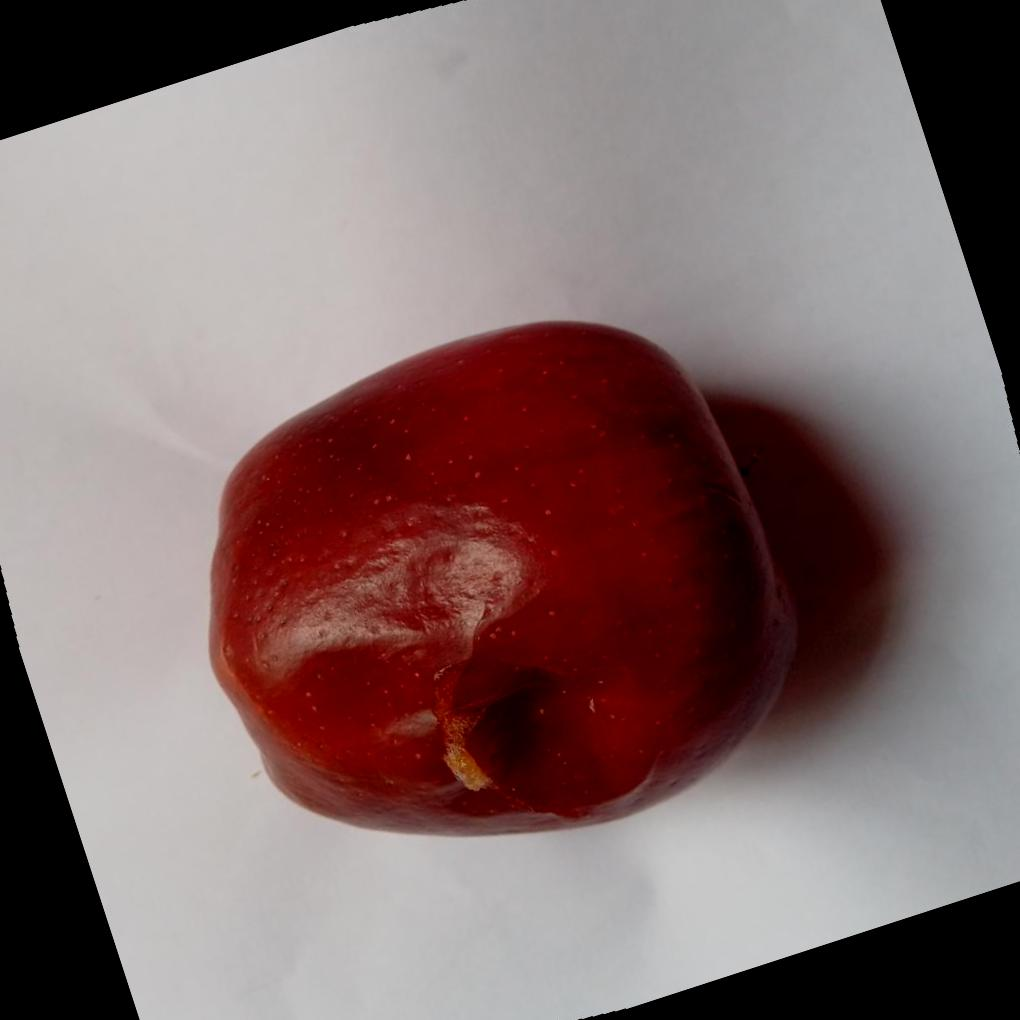FreshOrange: (208, 321, 802, 842)
